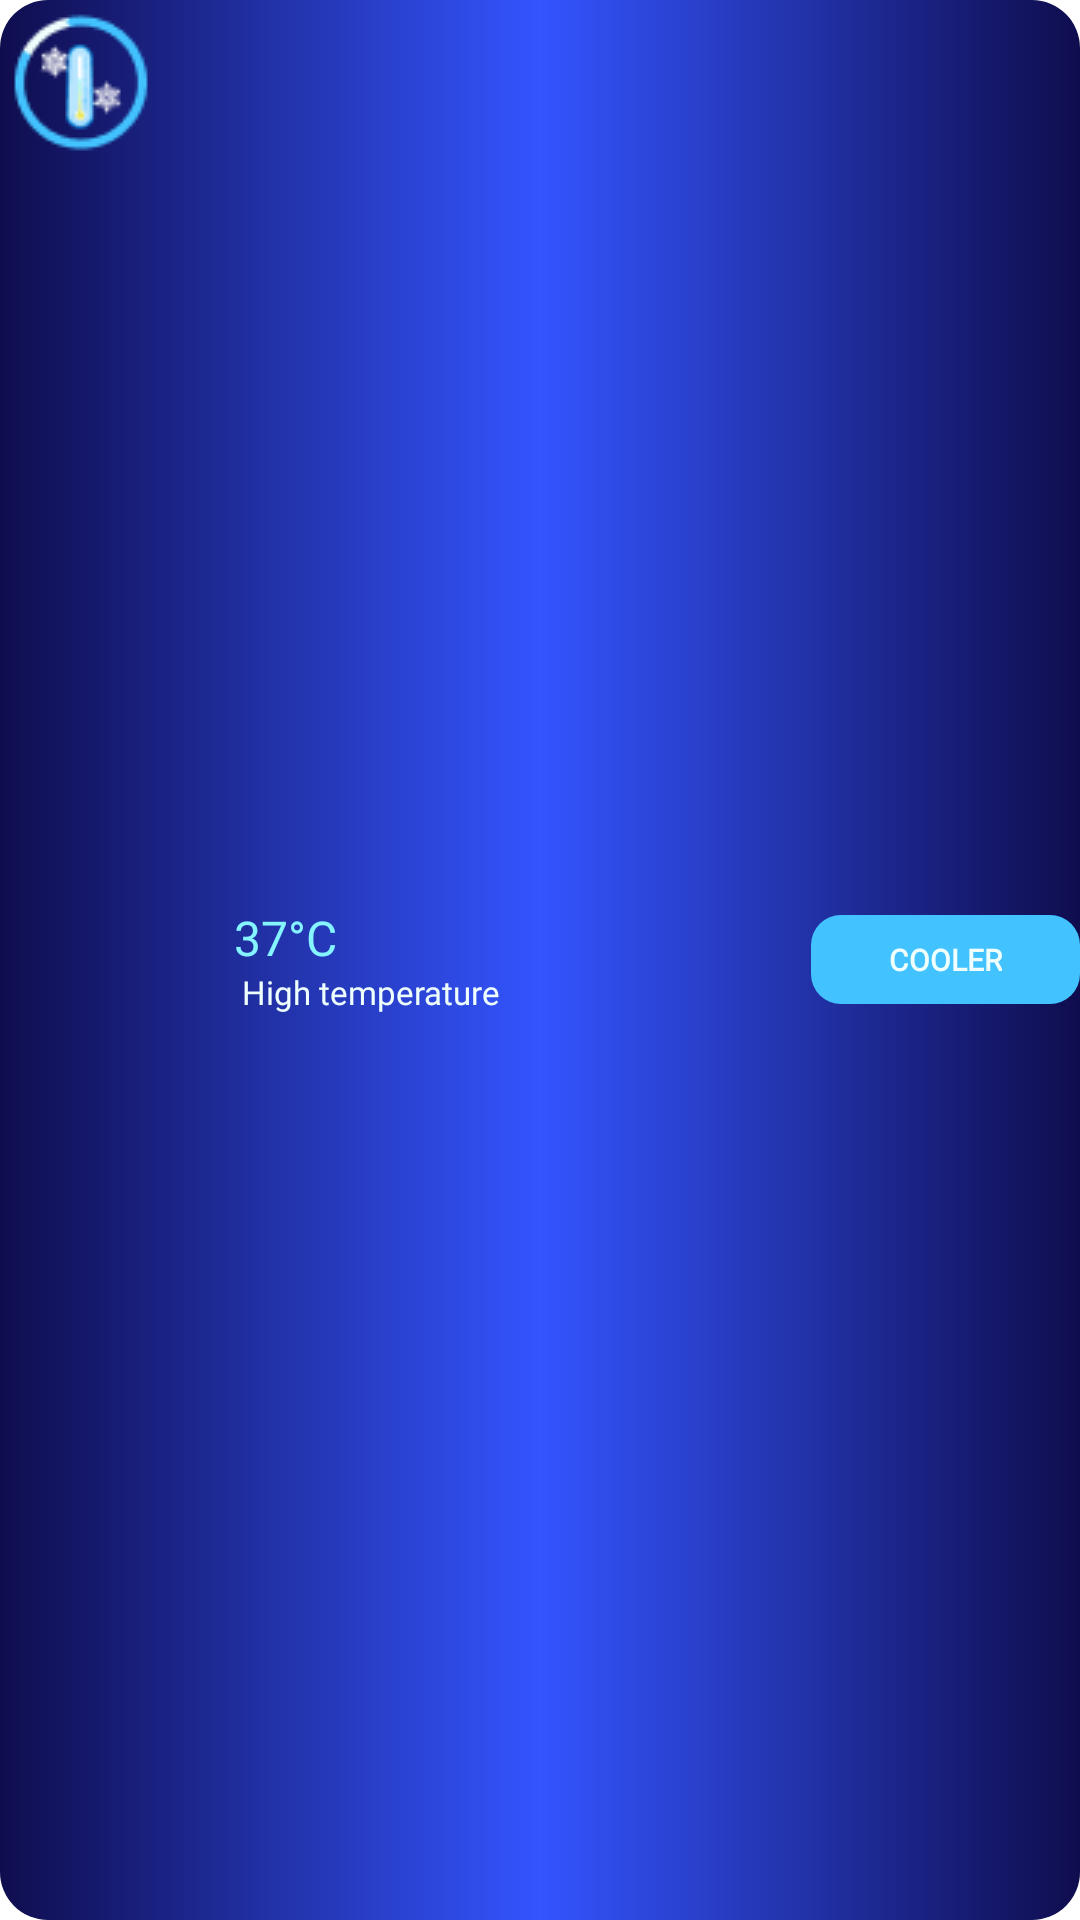

Screen size 1080*1920. Icon name, then its center in pixels as point (x, y):
cooler widget: point (74, 82)
